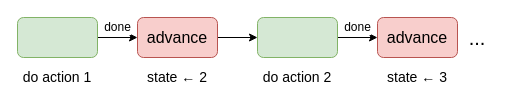
This 515x105 diagram has some shape labels left out. Here are the shapes that lost their labels. From the top down, the centre of each, then its label:
At point 57,37: "state 1".
At point 297,37: "state 2".
